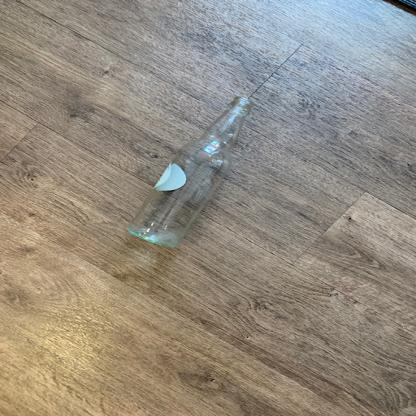trash: (124, 93, 259, 254)
